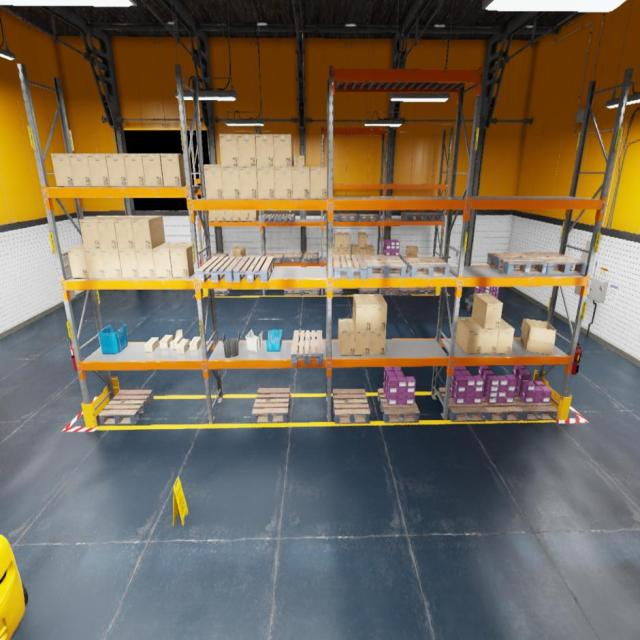box: (520, 318, 556, 356), (131, 216, 165, 248), (472, 293, 502, 329), (96, 216, 129, 248), (80, 216, 113, 248), (456, 317, 484, 354), (160, 154, 192, 186), (472, 317, 499, 354), (114, 216, 145, 248), (152, 242, 180, 277), (170, 242, 194, 277), (51, 154, 75, 186), (68, 244, 90, 278), (87, 154, 110, 186), (69, 154, 92, 186), (352, 294, 372, 330), (142, 154, 164, 186), (124, 154, 146, 186), (106, 154, 128, 186), (368, 294, 387, 330), (274, 134, 294, 167), (237, 134, 257, 167), (219, 134, 239, 167), (496, 318, 514, 353), (338, 319, 355, 356), (255, 134, 274, 167), (84, 250, 106, 278), (239, 167, 258, 199), (204, 167, 223, 199), (135, 250, 156, 278), (118, 250, 139, 278), (101, 250, 122, 278), (292, 167, 310, 199), (257, 167, 275, 199), (274, 167, 292, 199), (222, 167, 240, 199), (354, 322, 371, 355), (310, 167, 327, 199), (370, 330, 386, 355), (170, 330, 182, 349), (177, 338, 190, 354), (144, 338, 160, 351), (160, 334, 173, 348), (189, 337, 201, 351), (232, 247, 246, 258), (406, 245, 418, 257), (358, 232, 367, 248), (341, 232, 349, 248), (334, 232, 342, 248), (198, 163, 206, 178), (351, 245, 358, 261), (249, 210, 258, 222), (240, 210, 248, 222), (233, 210, 241, 222), (225, 210, 233, 222), (210, 210, 218, 222), (202, 210, 210, 222), (335, 248, 342, 261), (297, 155, 305, 166), (218, 210, 225, 222), (358, 245, 366, 255), (367, 246, 374, 255), (342, 249, 349, 256), (293, 155, 297, 166), (332, 245, 334, 261)
forklift: (0, 535, 28, 639)
pallets: (99, 390, 154, 424), (438, 388, 487, 422), (378, 389, 420, 423), (523, 252, 587, 274), (252, 388, 290, 423), (487, 252, 547, 274), (333, 389, 370, 423), (514, 393, 558, 420), (198, 257, 243, 282), (290, 330, 322, 364), (233, 256, 274, 282), (482, 396, 522, 421), (363, 255, 406, 278), (402, 257, 450, 277), (333, 254, 367, 279), (468, 294, 501, 303), (205, 253, 228, 262), (264, 253, 284, 263), (401, 212, 424, 220), (210, 288, 232, 296), (358, 213, 379, 221), (284, 253, 302, 262), (419, 212, 442, 219), (339, 213, 358, 221), (381, 288, 400, 296), (399, 287, 418, 295), (416, 287, 435, 295), (304, 252, 319, 262), (262, 214, 280, 222), (382, 252, 402, 259), (278, 214, 295, 222), (324, 288, 343, 295), (302, 288, 320, 295), (324, 213, 339, 221), (358, 288, 378, 294), (285, 288, 302, 295)
